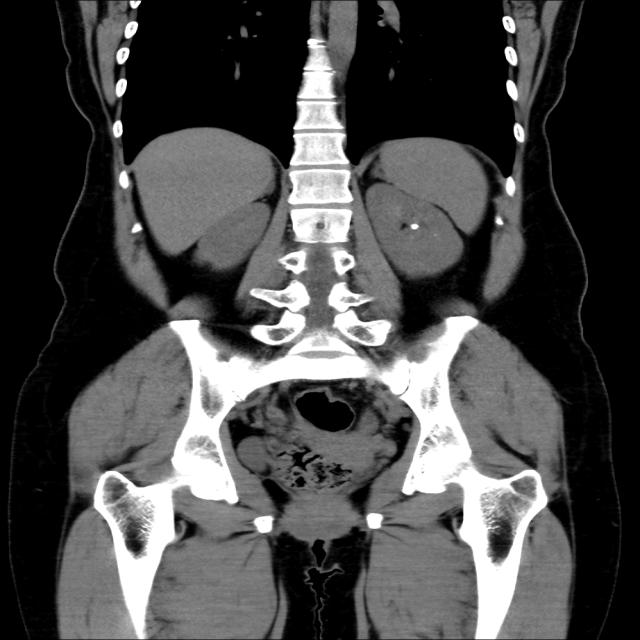kidneystone: (410, 224, 420, 230)
